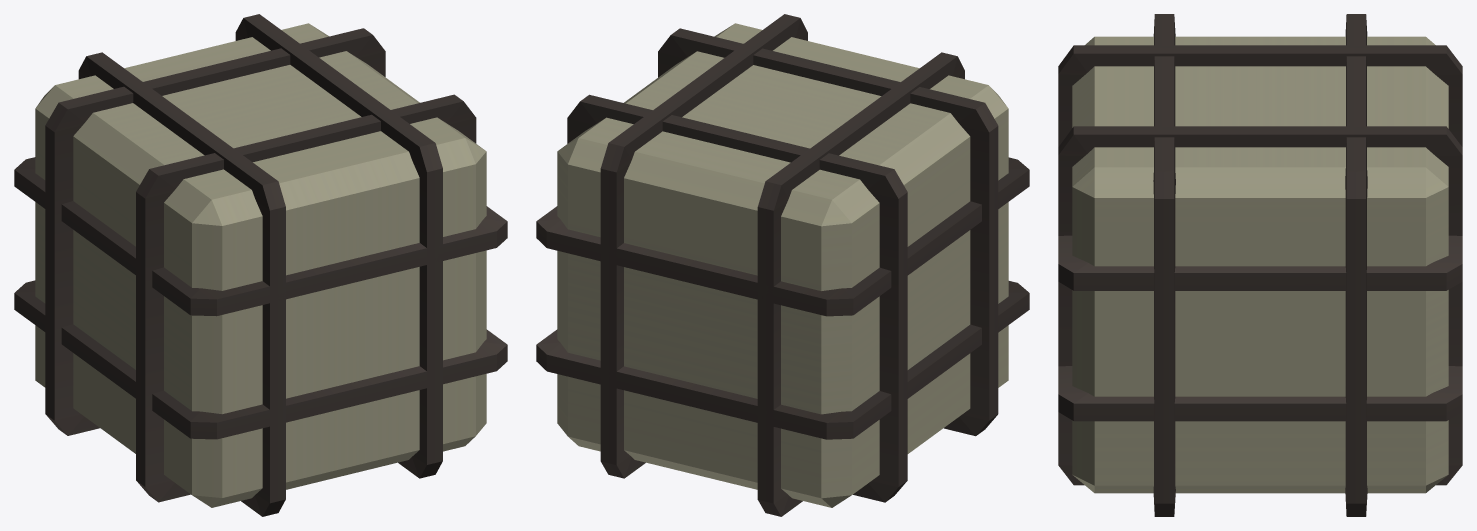
Rendered from Cargo_2.fbx.
3 renders of one model, left to right at view 1: azimuth 30°, elevation 25°; view 2: azimuth 150°, elevation 25°; view 3: azimuth 270°, elevation 25°, orthographic. The views are drawn at different scales.
Parts seen in each view (by area): view 1: polySurface9735; view 2: polySurface9735; view 3: polySurface9735.
Part boxes in pixels (x1=…): polySurface9735: x1=14, y1=14, x2=507, y2=516; polySurface9735: x1=536, y1=14, x2=1029, y2=516; polySurface9735: x1=1058, y1=14, x2=1462, y2=516.
Size of the model in its own units: 169 by 161 by 169.
